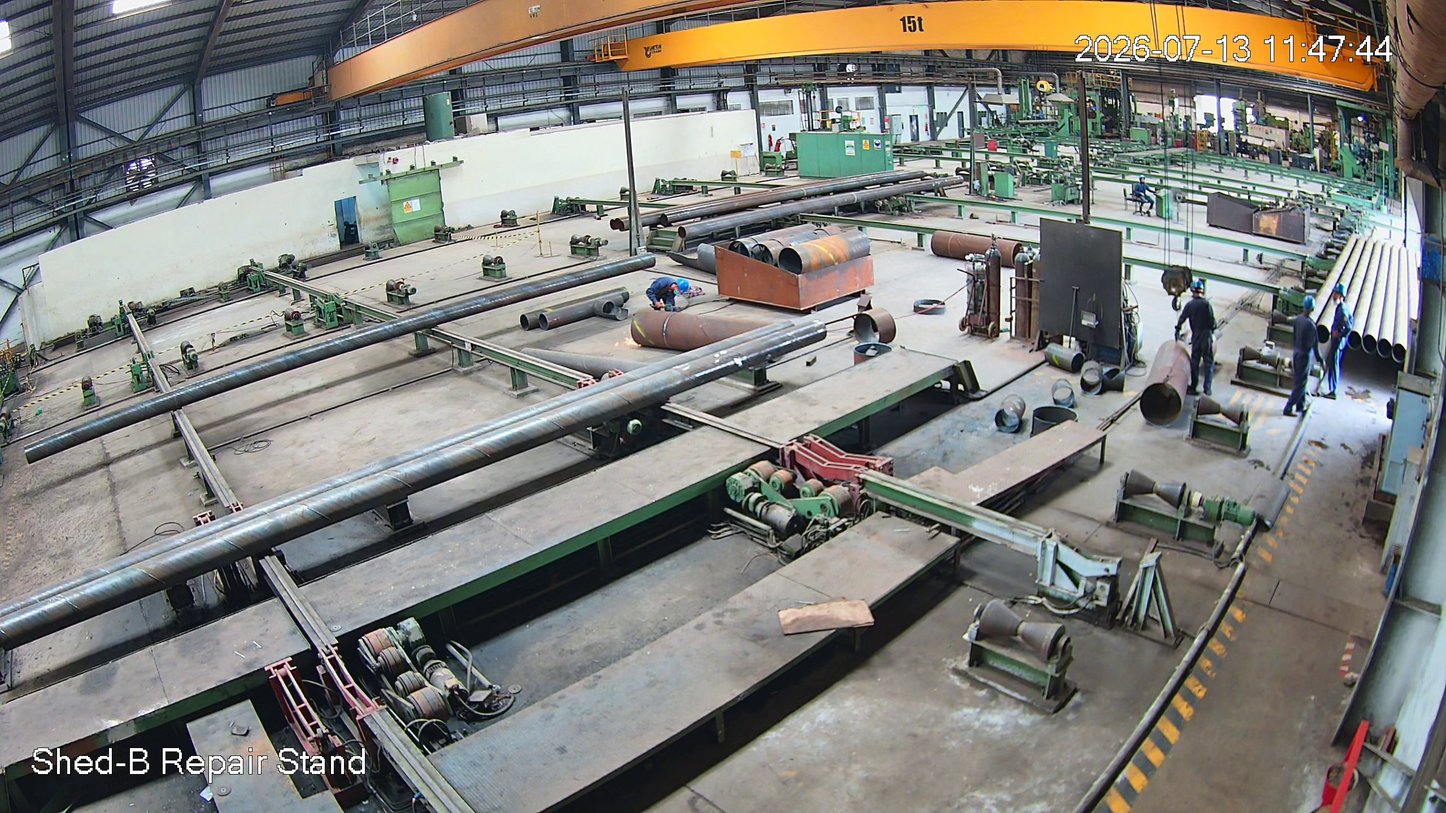Helmet: (1298, 293, 1318, 322), (1330, 283, 1351, 306), (674, 277, 690, 298)
Person: (1279, 296, 1322, 419), (1179, 282, 1220, 395), (1325, 285, 1351, 401), (647, 277, 690, 322)
